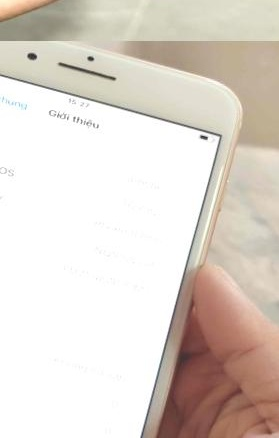scratch: (191, 155, 234, 270)
